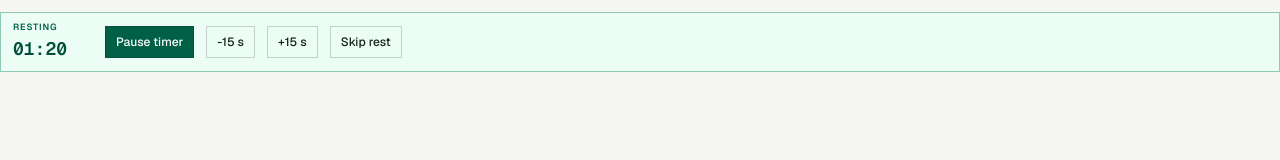
RestTimer +15 / -15 › +15 adds fifteen seconds to the running rest
Click the button named "Add 15 seconds" at (292, 42), box [267,26,318,58]
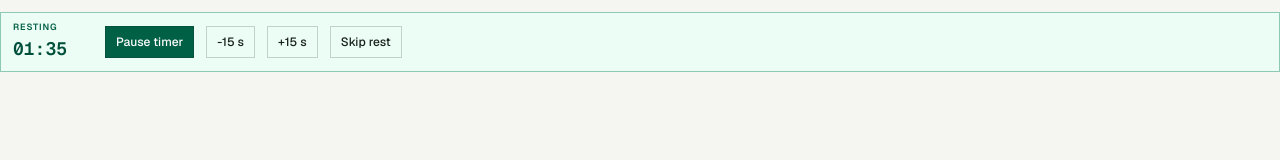
expect the text "01:35" is shown: met, box [13,36,67,60]
